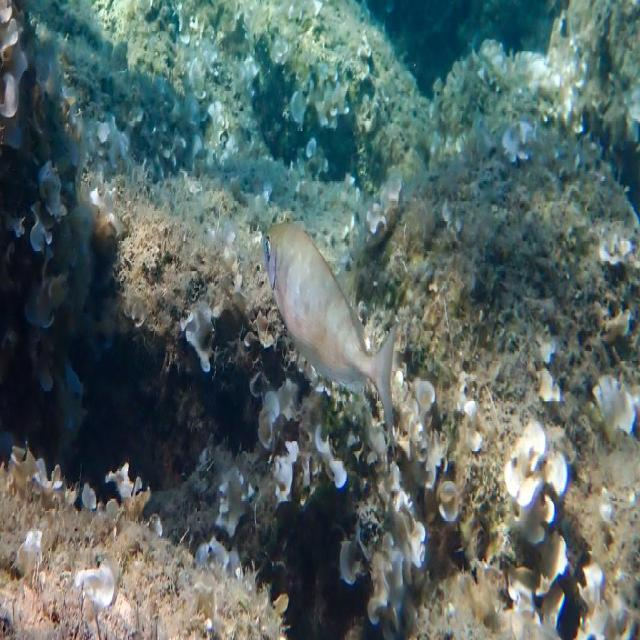Sokar Baligi: (254, 197, 413, 464)
